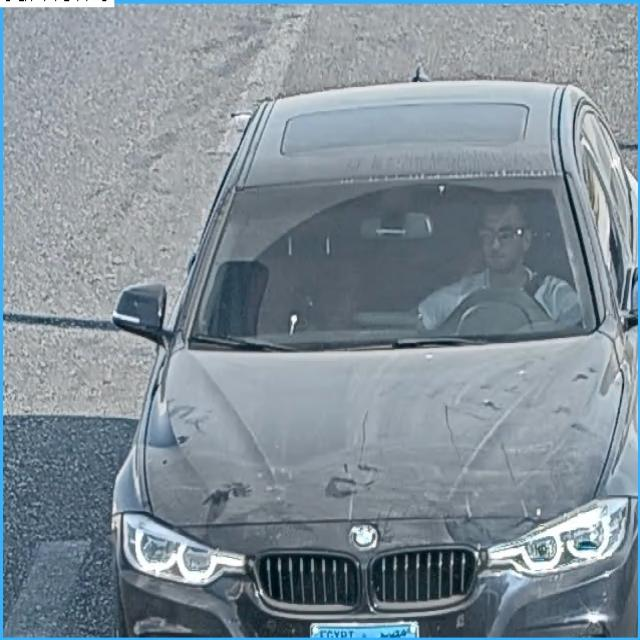windshield: (186, 172, 597, 340)
